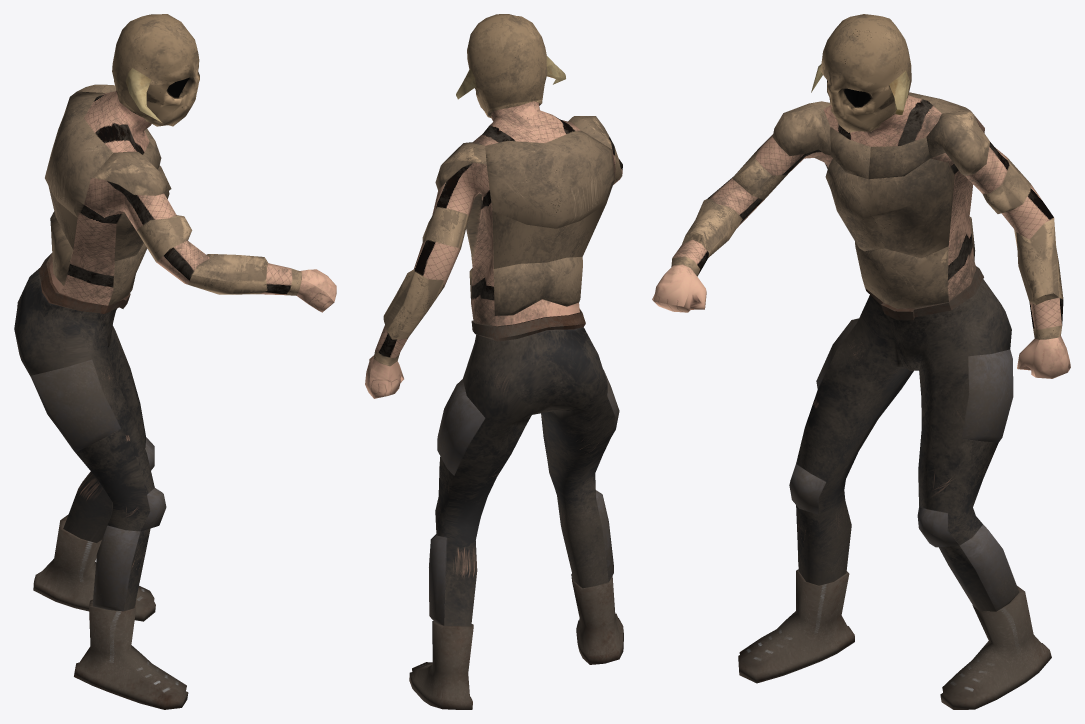
File: Anim_interruptor_npc1.0029.obj
3 views of the same model, side by side, from view 1: azimuth 30°, elevation 25°; view 2: azimuth 150°, elevation 25°; view 3: azimuth 270°, elevation 25° (orthographic). The views are drawn at different scales.
Parts seen in each view (by area): view 1: NPC2; view 2: NPC2; view 3: NPC2.
Part boxes in pixels (bbox=[...]): NPC2: bbox=[14, 14, 336, 709]; NPC2: bbox=[365, 14, 623, 709]; NPC2: bbox=[652, 14, 1070, 709].
Size of the model in its own units: 3.08 by 9.18 by 5.15.
